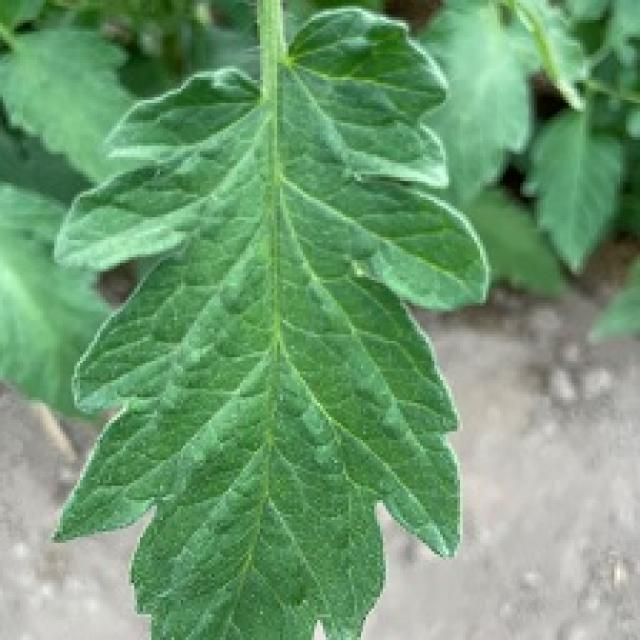Healthy: (52, 0, 486, 637)
